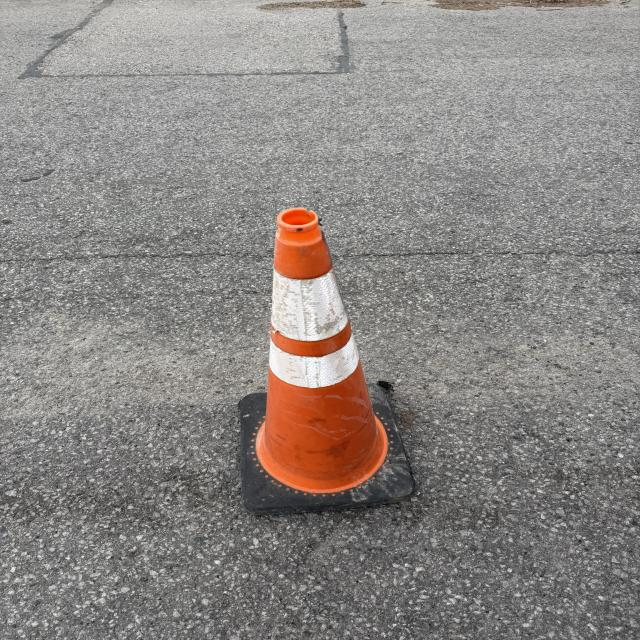Traffic Cone: (227, 207, 422, 519)
